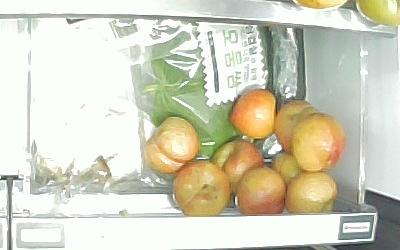prune: (142, 116, 200, 175), (173, 161, 231, 217), (294, 113, 346, 173), (211, 140, 267, 190), (236, 166, 287, 215), (284, 171, 340, 215), (230, 89, 277, 140), (277, 100, 320, 155), (271, 151, 304, 187)
